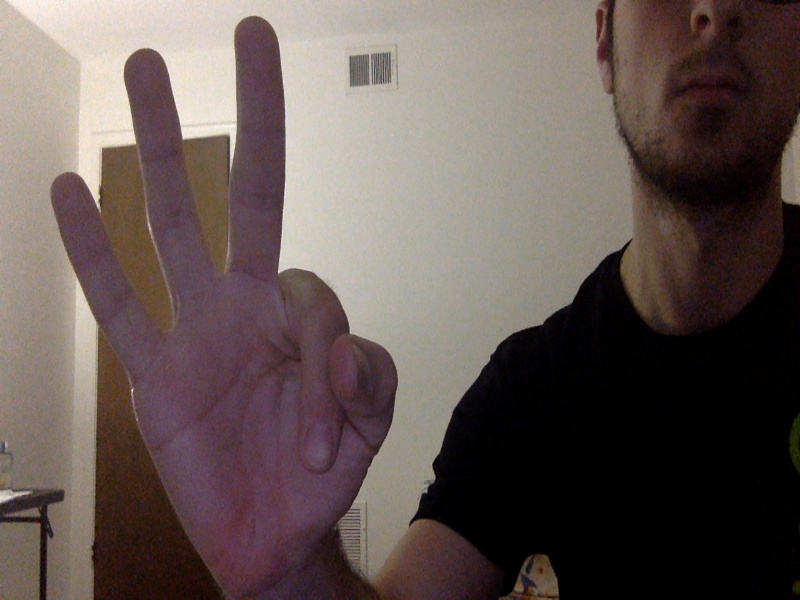3-hand: (49, 16, 400, 591)
